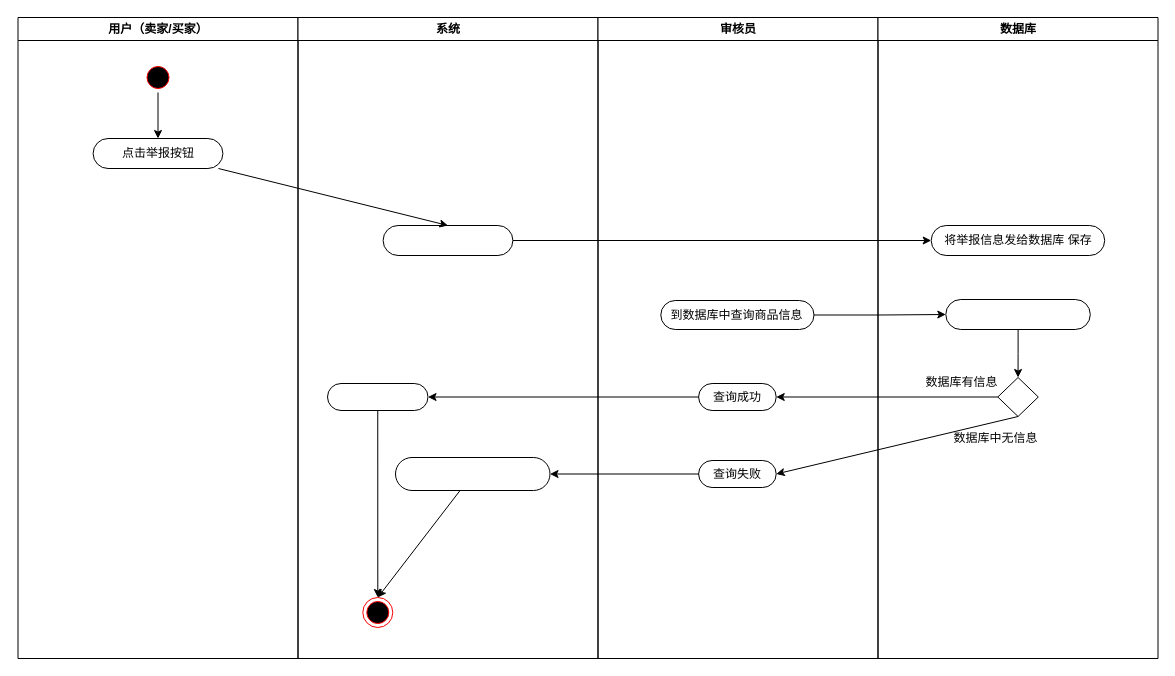
Image size: 1175x676. Some labels were removed from this diagram. Each missing label, with the centre of its shape:
"展示商品信息" goes at pixel 377 396.
"待管理员审核" goes at pixel 447 240.
"显示未找到相关商品信息" goes at pixel 472 473.
"查询商品信息" goes at pixel 1017 314.
